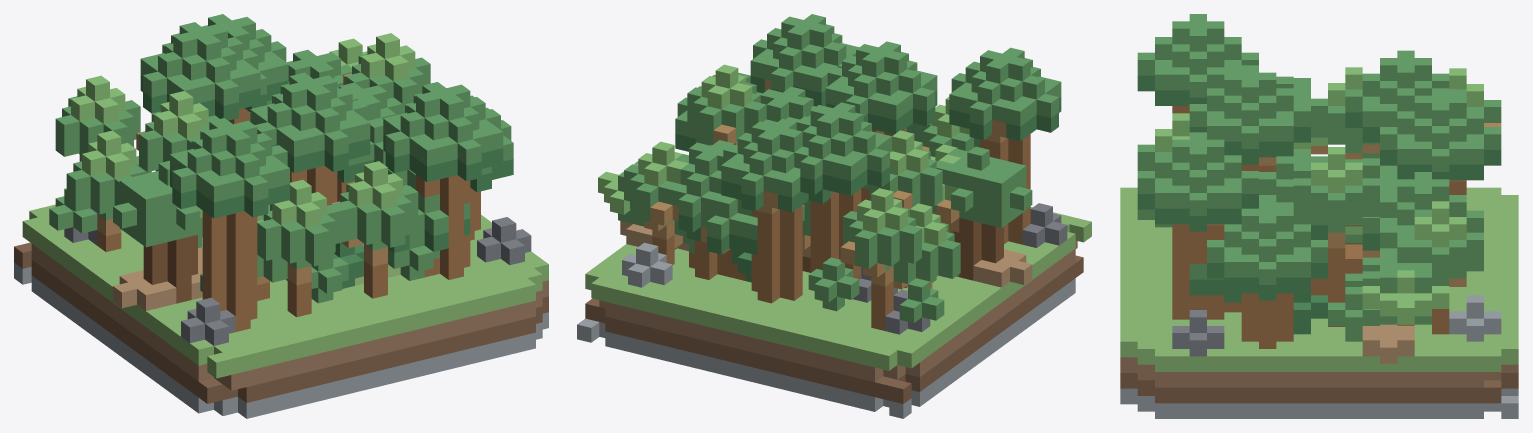
Rendered from forest.glb.
3 views of the same model, side by side, from view 1: azimuth 30°, elevation 25°; view 2: azimuth 150°, elevation 25°; view 3: azimuth 270°, elevation 25° (orthographic). The views are drawn at different scales.
Parts seen in each view (by area): view 1: VX_forest_LOD0; view 2: VX_forest_LOD0; view 3: VX_forest_LOD0.
Boxes of the visible parts, bbox=[...] form: VX_forest_LOD0: bbox=[14, 14, 548, 418]; VX_forest_LOD0: bbox=[577, 14, 1091, 418]; VX_forest_LOD0: bbox=[1120, 14, 1518, 418].
Size of the model in its own units: 5.72 by 3.52 by 5.06.
